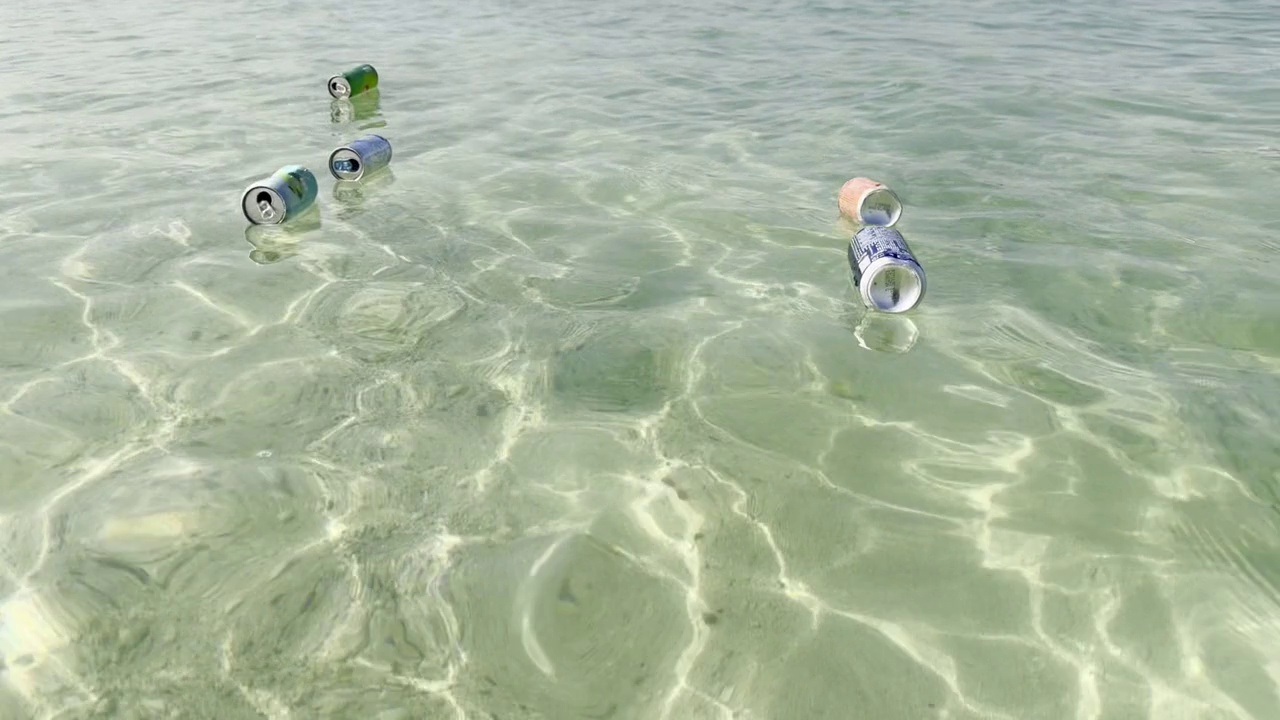debris: (844, 217, 927, 322), (229, 158, 322, 233), (326, 126, 395, 192), (831, 176, 906, 229), (317, 59, 387, 110)
